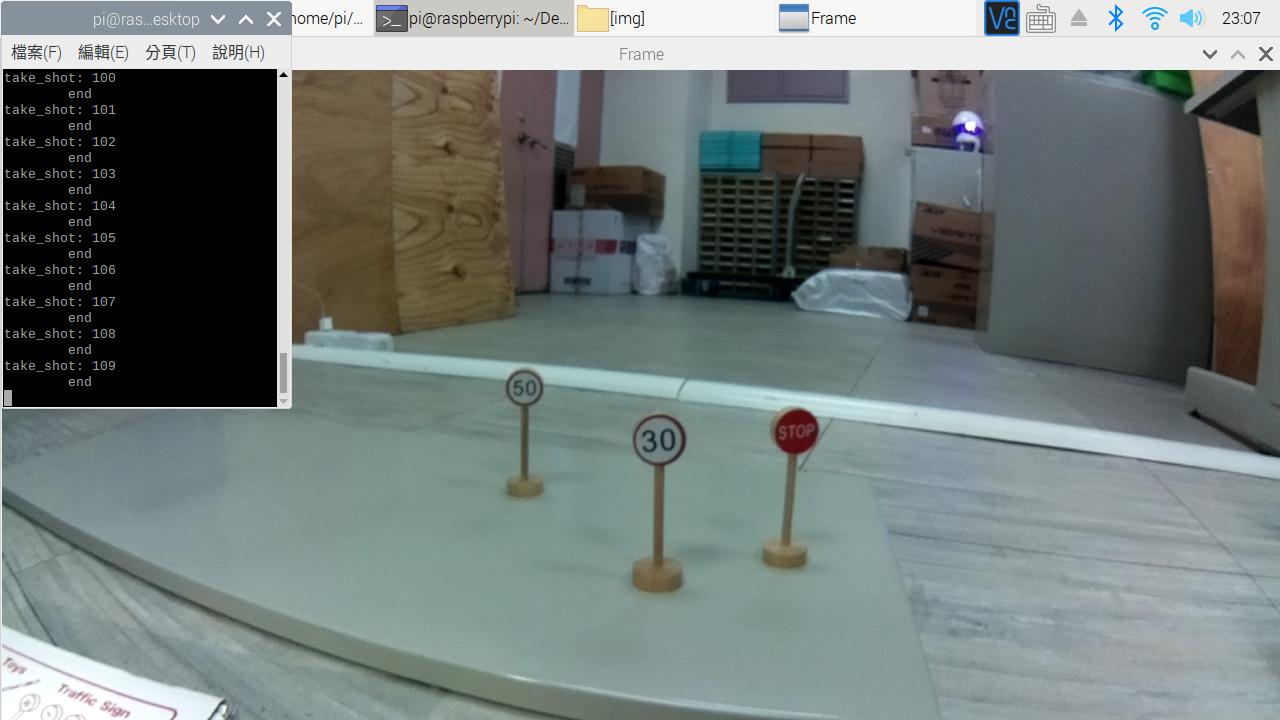Speed30: (622, 396, 701, 479)
Speed50: (504, 357, 551, 413)
Stop: (763, 398, 831, 462)
